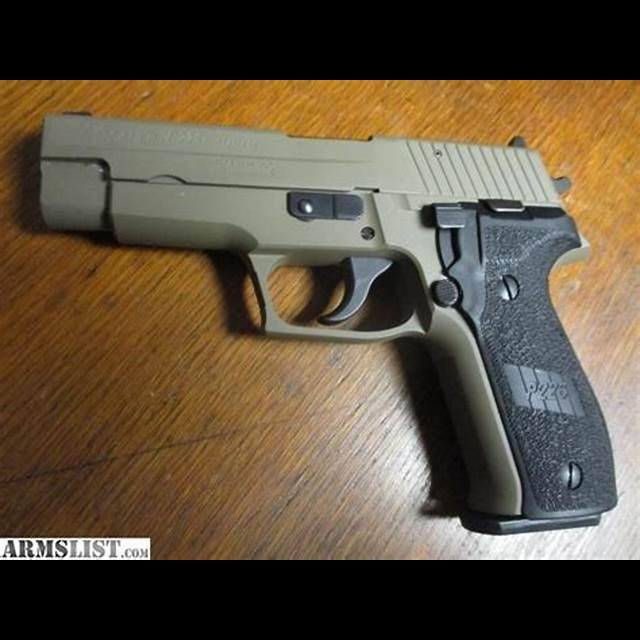handgun: (30, 107, 622, 539)
